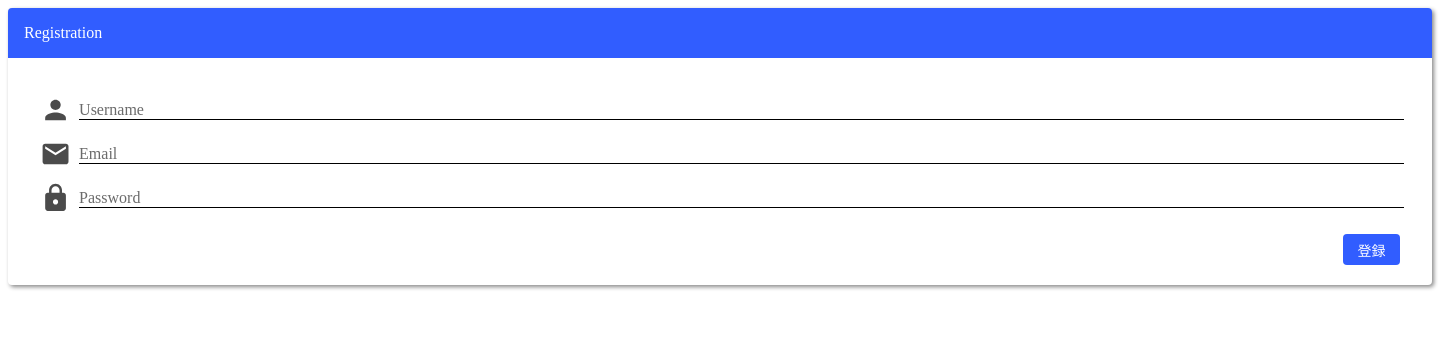
Test case: RegisterForm › 未入力時にバリデーションエラーが発生する
Click the button "登録" at (1372, 250), box [1343,234,1400,265]
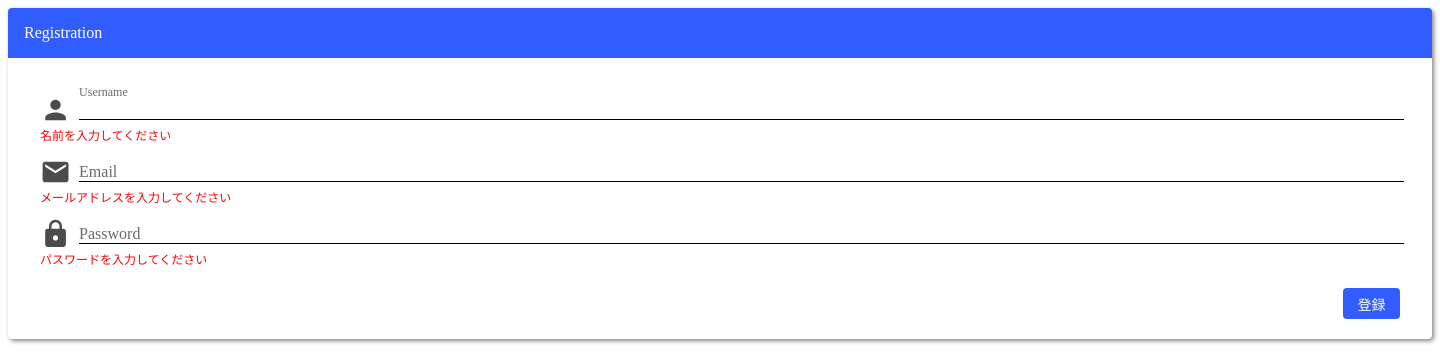
Result: the text "名前を入力してください" is shown at [40,129,171,143]
Result: the text "メールアドレスを入力してください" is shown at [40,191,231,205]
Result: the text "パスワードを入力してください" is shown at [40,253,207,267]
